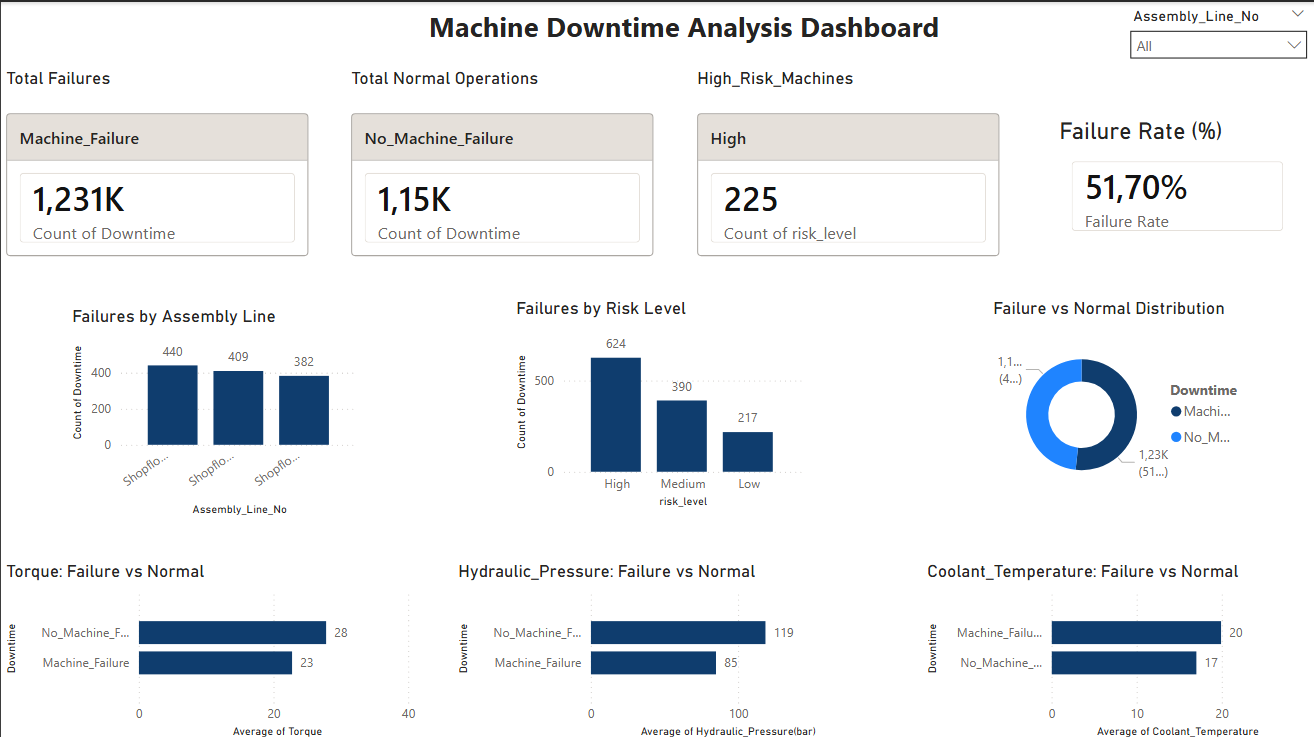

This screenshot's page, from the dashboard's own definition file:
{"tool":"powerbi","page":{"name":"Page 1","canvas":[1280,720],"ordinal":0},"visuals":[{"type":"cardVisual","title":"Total Failures","fields":{"Rows":["Machine Downtime.Downtime"],"Data":["CountNonNull(Machine Downtime.Downtime)"]},"box":[0,64,304,208],"z":0},{"type":"cardVisual","title":"Total Normal Operations","fields":{"Rows":["Machine Downtime.Downtime"],"Data":["CountNonNull(Machine Downtime.Downtime)"]},"box":[336,64,304,208],"z":1000},{"type":"cardVisual","title":"High_Risk_Machines","fields":{"Rows":["Machine Downtime.risk_level"],"Data":["CountNonNull(Machine Downtime.risk_level)"]},"box":[672,64,304,208],"z":2000},{"type":"cardVisual","title":"Failure Rate (%)","fields":{"Data":["Machine Downtime.Failure Rate"]},"box":[1024,112,240,128],"z":3000},{"type":"clusteredColumnChart","title":"Failures by Assembly Line","fields":{"Category":["Machine Downtime.Assembly_Line_No"],"Y":["CountNonNull(Machine Downtime.Downtime)"]},"box":[64,296,288,208],"z":4000},{"type":"clusteredColumnChart","title":"Failures by Risk Level","fields":{"Category":["Machine Downtime.risk_level"],"Y":["CountNonNull(Machine Downtime.Downtime)"]},"box":[496,288,288,208],"z":5000},{"type":"donutChart","title":"Failure vs Normal Distribution","fields":{"Category":["Machine Downtime.Downtime"],"Y":["CountNonNull(Machine Downtime.Downtime)"]},"box":[960,288,256,208],"z":6000},{"type":"clusteredBarChart","title":"Torque: Failure vs Normal","fields":{"Y":["Avg(Machine Downtime.Torque)"],"Category":["Machine Downtime.Downtime"]},"box":[0,544,416,176],"z":7000},{"type":"clusteredBarChart","title":"Hydraulic_Pressure: Failure vs Normal","fields":{"Y":["Avg(Machine Downtime.Hydraulic_Pressure(bar))"],"Category":["Machine Downtime.Downtime"]},"box":[440,544,416,176],"z":8000},{"type":"clusteredBarChart","title":" Coolant_Temperature: Failure vs Normal","fields":{"Category":["Machine Downtime.Downtime"],"Y":["Avg(Machine Downtime.Coolant_Temperature)"]},"box":[896,544,384,176],"z":9000},{"type":"textbox","box":[304,0,720,64],"z":10000},{"type":"slicer","fields":{"Values":["Machine Downtime.Assembly_Line_No"]},"box":[1088,0,192,64],"z":11000}]}

Visuals, with their boxes in screenshot pixels (x1, y1, x2, y2), scaled from the page's 1280x720 canvas onto the 1314x737 screenshot:
"Total Failures" cardVisual: detection(0, 66, 312, 278)
"Total Normal Operations" cardVisual: detection(345, 66, 657, 278)
"High_Risk_Machines" cardVisual: detection(690, 66, 1002, 278)
"Failure Rate (%)" cardVisual: detection(1051, 115, 1298, 246)
"Failures by Assembly Line" clusteredColumnChart: detection(66, 303, 361, 516)
"Failures by Risk Level" clusteredColumnChart: detection(509, 295, 805, 508)
"Failure vs Normal Distribution" donutChart: detection(986, 295, 1248, 508)
"Torque: Failure vs Normal" clusteredBarChart: detection(0, 557, 427, 736)
"Hydraulic_Pressure: Failure vs Normal" clusteredBarChart: detection(452, 557, 879, 736)
" Coolant_Temperature: Failure vs Normal" clusteredBarChart: detection(920, 557, 1313, 736)
textbox: detection(312, 0, 1051, 66)
slicer - Machine Downtime.Assembly_Line_No: detection(1117, 0, 1313, 66)
